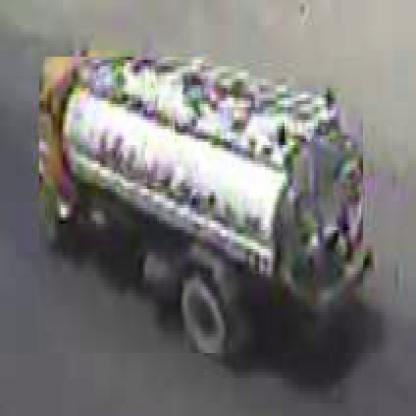truck: (40, 58, 366, 357)
